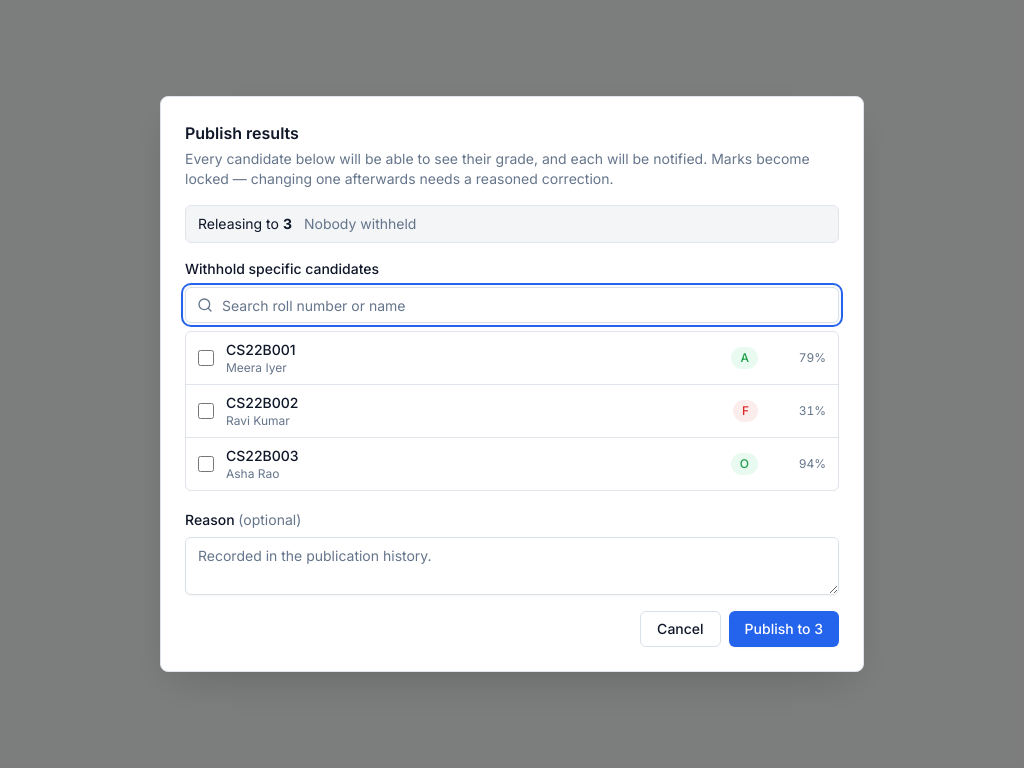
it: PublishResultsDialog › says withheld marks survive, so it is not confused with deletion
The image size is (1024, 768).
Click the checkbox labelled "CS22B001 Meera Iyer A 79%". click: (206, 358)
box: [198, 350, 214, 366]
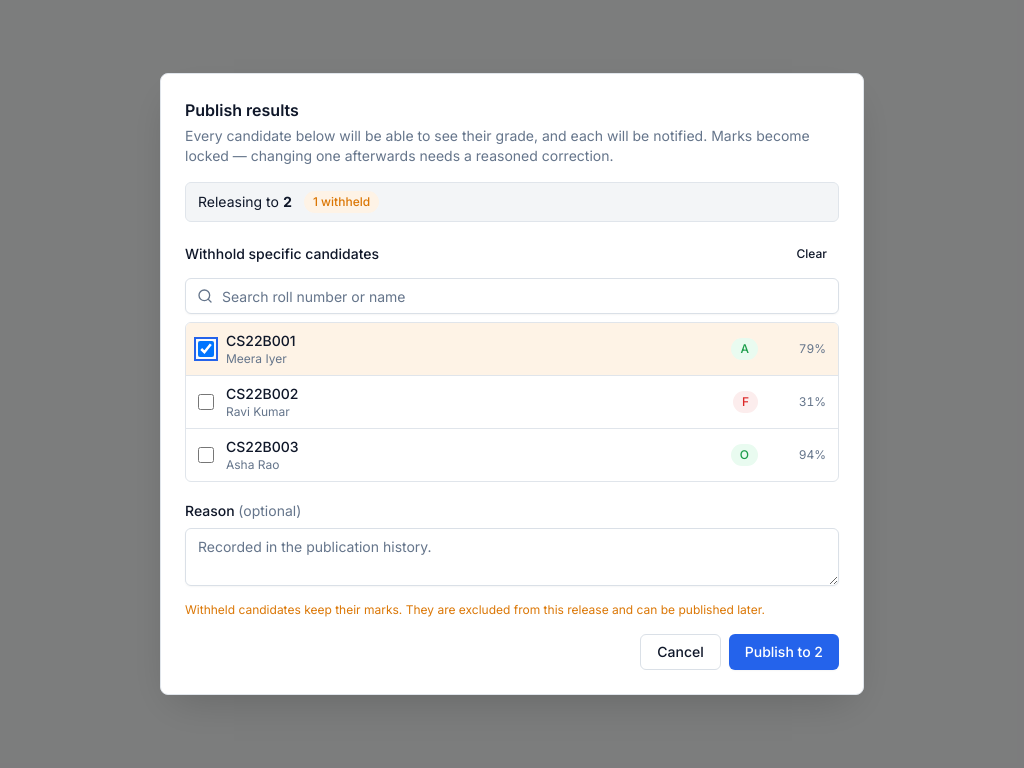
Expected: the text "Withheld candidates keep their marks" is shown, [185, 602, 765, 617]
